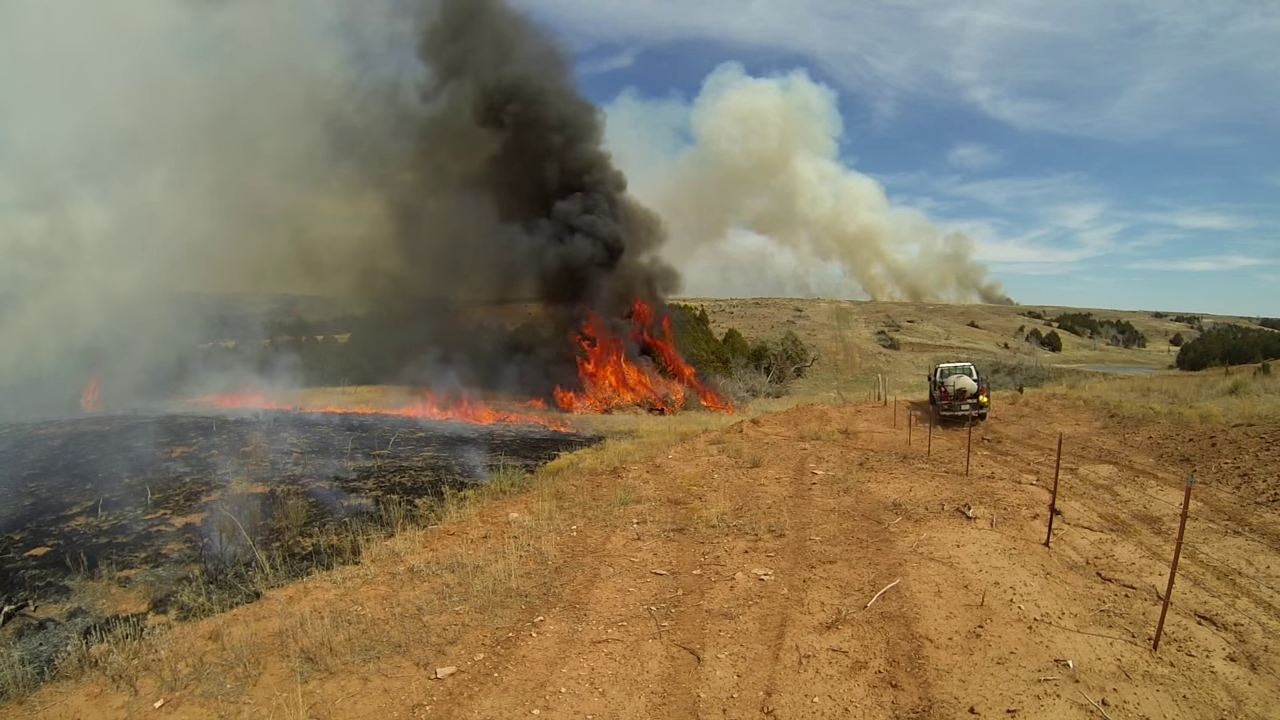forest_fire: (553, 299, 733, 412), (184, 391, 566, 427)
